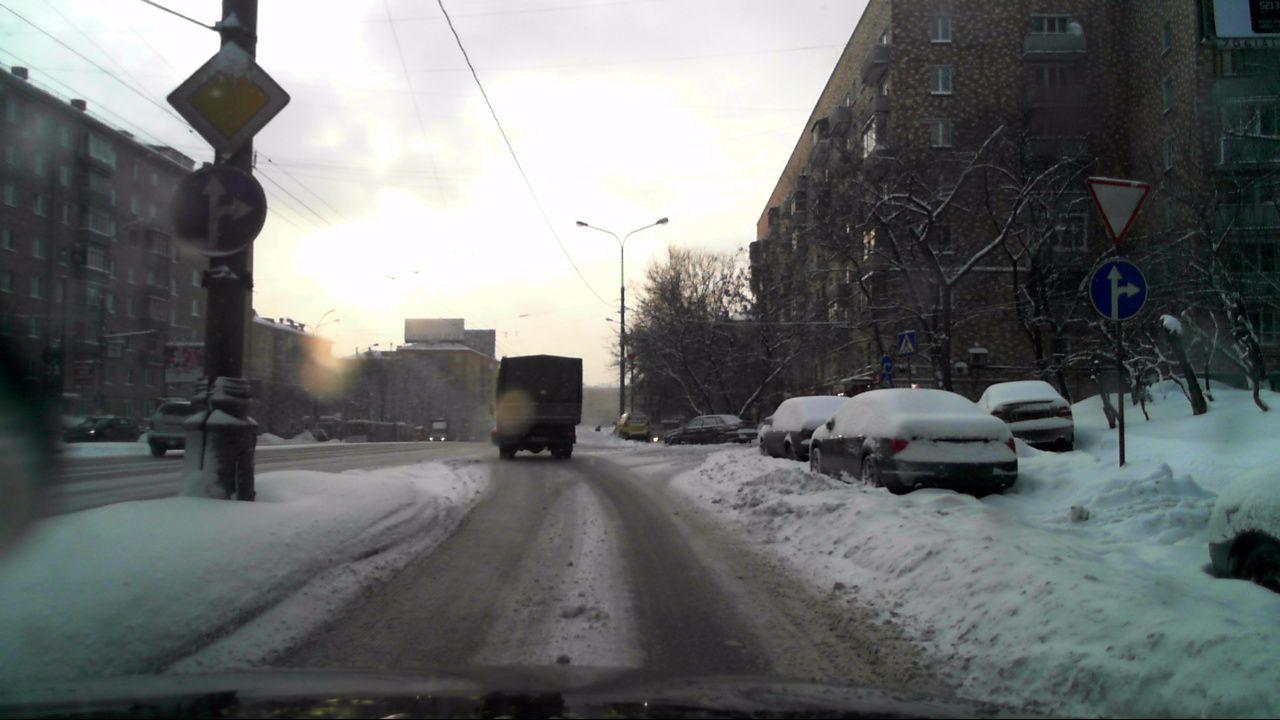2_1: (164, 44, 290, 147)
2_4: (1079, 171, 1147, 243)
4_1_2: (880, 353, 893, 372)
4_1_4: (170, 160, 269, 254), (1090, 253, 1152, 325)
5_19_1: (898, 331, 916, 359)
5_19_2: (879, 373, 892, 387)
